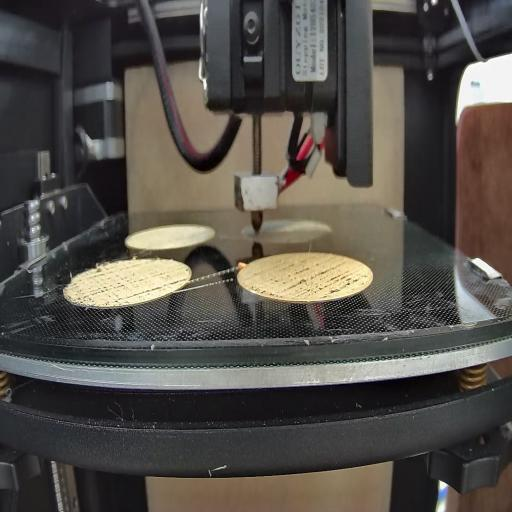under_extrusion: (66, 262, 163, 302), (247, 265, 370, 296), (168, 271, 191, 290)
